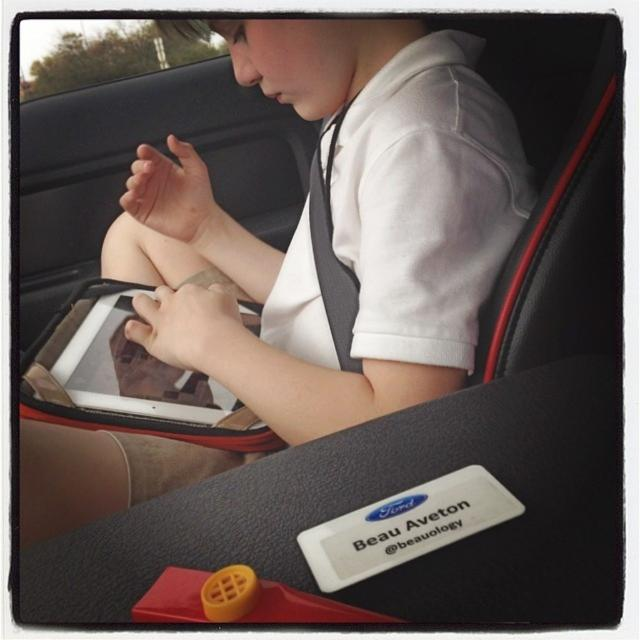Seatbelt: (302, 136, 362, 374), (310, 145, 364, 377)
